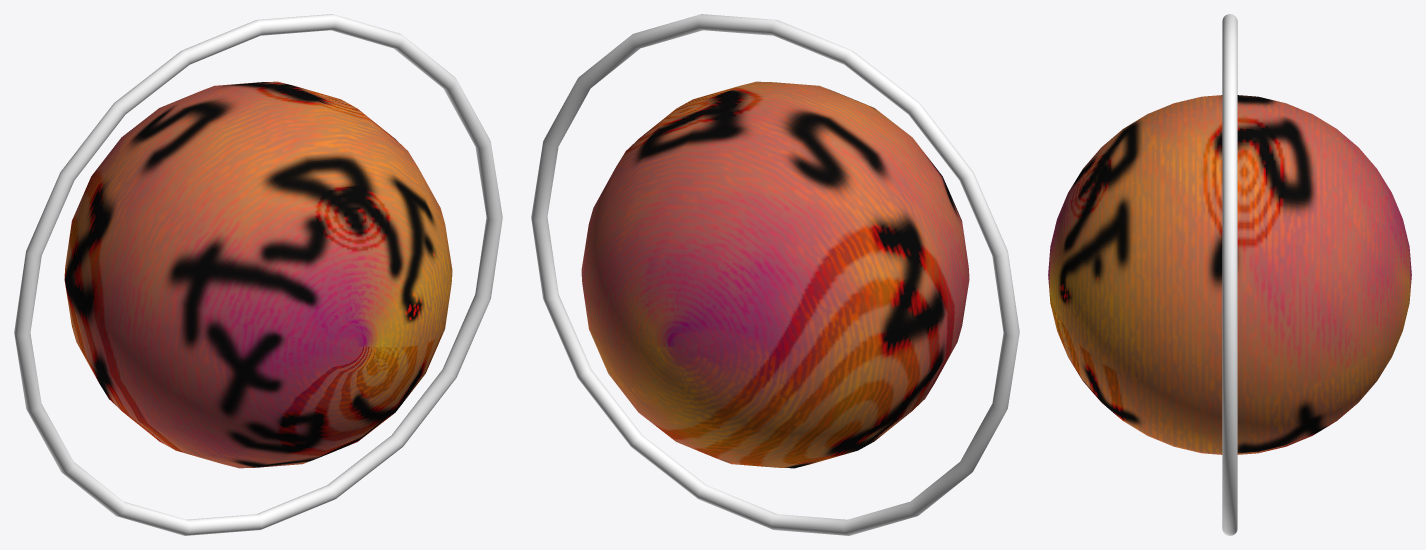
The model's file is simple_001_N_RGBA_Textures_01.dae.
3 renders of one model, left to right at view 1: azimuth 30°, elevation 25°; view 2: azimuth 150°, elevation 25°; view 3: azimuth 270°, elevation 25°, orthographic. The views are drawn at different scales.
Visible parts, largest first — view 1: pSphere1, pTorus1; view 2: pSphere1, pTorus1; view 3: pSphere1, pTorus1.
Part boxes in pixels (bbox=[...]): pSphere1: bbox=[64, 81, 452, 468]; pTorus1: bbox=[14, 14, 502, 535]; pSphere1: bbox=[581, 81, 969, 468]; pTorus1: bbox=[531, 14, 1019, 535]; pSphere1: bbox=[1048, 95, 1411, 454]; pTorus1: bbox=[1222, 14, 1237, 535].
Bounding box in the file's own units: 3.67 × 2.54 × 3.67.
Materials: 2 (1 with a texture image).
